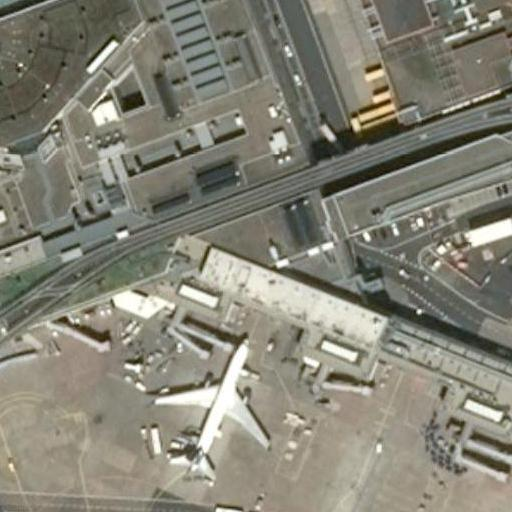Aircraft: (149, 331, 269, 479)
